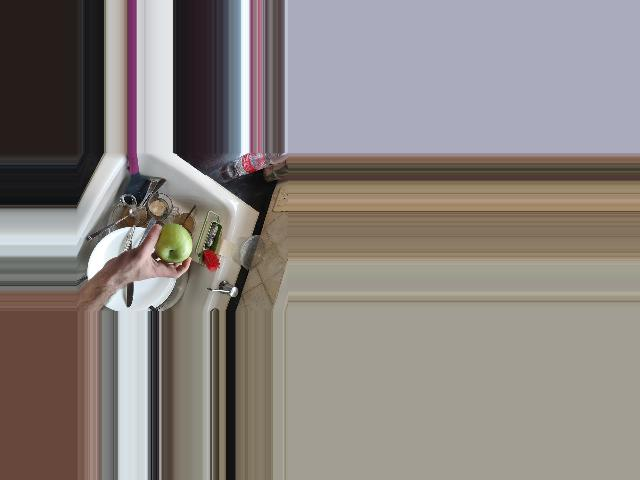apple: (150, 222, 193, 266)
